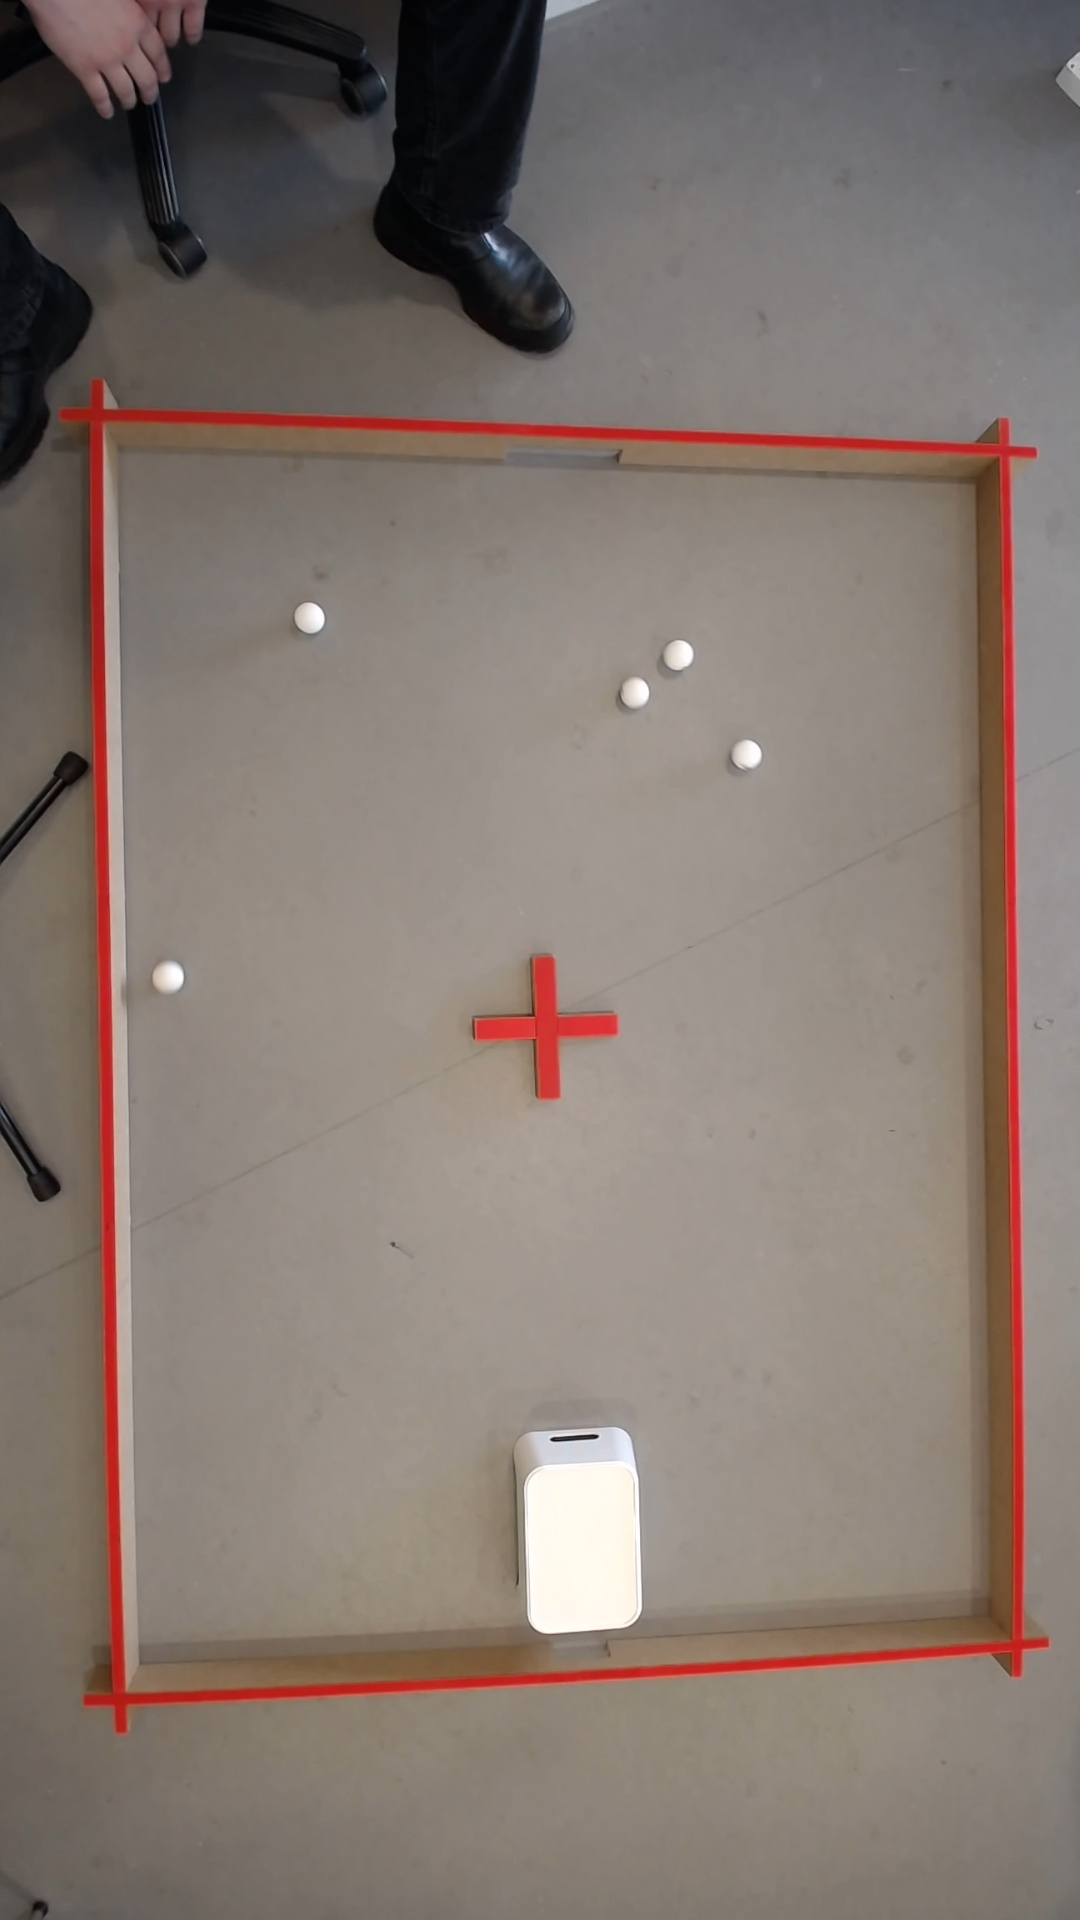balls: (295, 599, 328, 634), (154, 959, 187, 993), (732, 736, 765, 770), (669, 640, 692, 669)
car: (626, 679, 649, 705)
